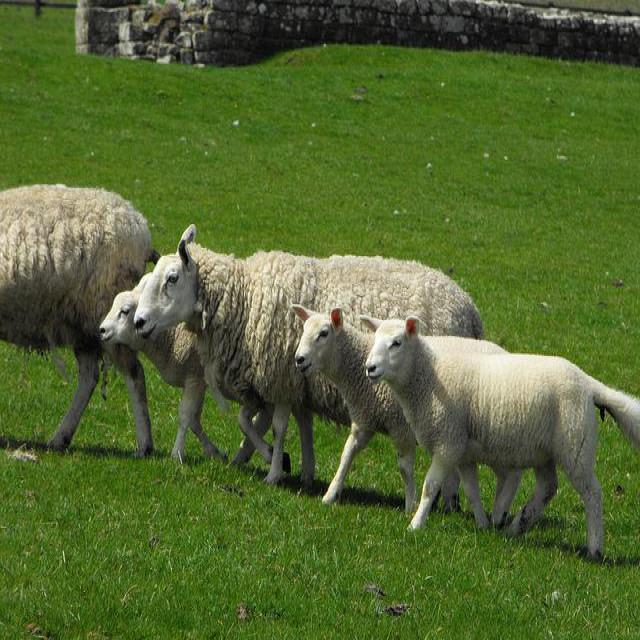Sheep: (132, 223, 483, 500), (358, 315, 639, 564), (4, 188, 156, 459), (287, 307, 420, 517), (100, 273, 228, 463)
